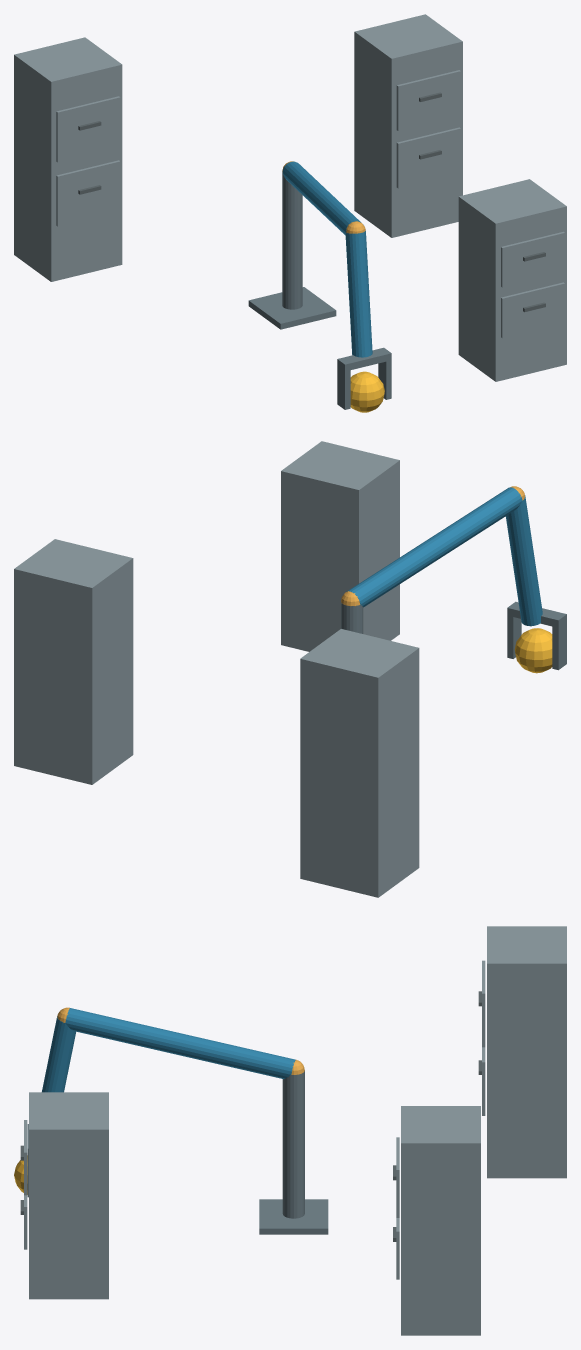
3 views of the same model, one above another, from view 1: azimuth 30°, elevation 25°; view 2: azimuth 150°, elevation 25°; view 3: azimuth 270°, elevation 25° (orthographic). The views are drawn at different scales.
Parts seen in each view (by area): view 1: cabinet_3 body, cabinet_2 body, cabinet_1 body, cabinet_3 drawer front, cabinet_3 drawer front.001, cabinet_2 drawer front.001, cabinet_2 drawer front, moving link 2, fixed post, cabinet_1 drawer front.001, cabinet_1 drawer front, pedestal (+4 smaller); view 2: cabinet_3 body, cabinet_2 body, cabinet_1 body, moving link 1, moving link 2, ball ball_1, gripper finger -1, fixed post, gripper bridge; view 3: cabinet_3 body, cabinet_2 body, cabinet_1 body, moving link 1, fixed post, pedestal, moving link 2.
Part boxes in pixels (bbox=[...]): cabinet_3 body: bbox=[14, 37, 122, 281]; cabinet_2 body: bbox=[354, 14, 462, 237]; cabinet_1 body: bbox=[458, 179, 566, 381]; cabinet_3 drawer front: bbox=[56, 160, 120, 226]; cabinet_3 drawer front.001: bbox=[56, 96, 120, 162]; cabinet_2 drawer front.001: bbox=[396, 70, 460, 130]; cabinet_2 drawer front: bbox=[396, 127, 460, 188]; moving link 2: bbox=[345, 231, 372, 357]; fixed post: bbox=[282, 172, 302, 309]; cabinet_1 drawer front.001: bbox=[501, 231, 564, 287]; cabinet_1 drawer front: bbox=[501, 282, 564, 338]; pedestal: bbox=[248, 287, 336, 329]; cabinet_3 body: bbox=[300, 629, 419, 897]; cabinet_2 body: bbox=[14, 539, 133, 784]; cabinet_1 body: bbox=[281, 441, 399, 651]; moving link 1: bbox=[346, 487, 522, 607]; moving link 2: bbox=[505, 495, 542, 626]; ball ball_1: bbox=[514, 628, 552, 673]; gripper finger -1: bbox=[552, 622, 566, 670]; fixed post: bbox=[341, 602, 363, 633]; gripper bridge: bbox=[507, 601, 566, 627]; cabinet_3 body: bbox=[487, 926, 566, 1178]; cabinet_2 body: bbox=[401, 1106, 480, 1335]; cabinet_1 body: bbox=[29, 1092, 108, 1299]; moving link 1: bbox=[65, 1008, 295, 1079]; fixed post: bbox=[282, 1070, 304, 1218]; pedestal: bbox=[259, 1199, 328, 1234]; moving link 2: bbox=[42, 1016, 75, 1092].
Size of the model in its own units: 1.67 by 0.86 by 2.01.
